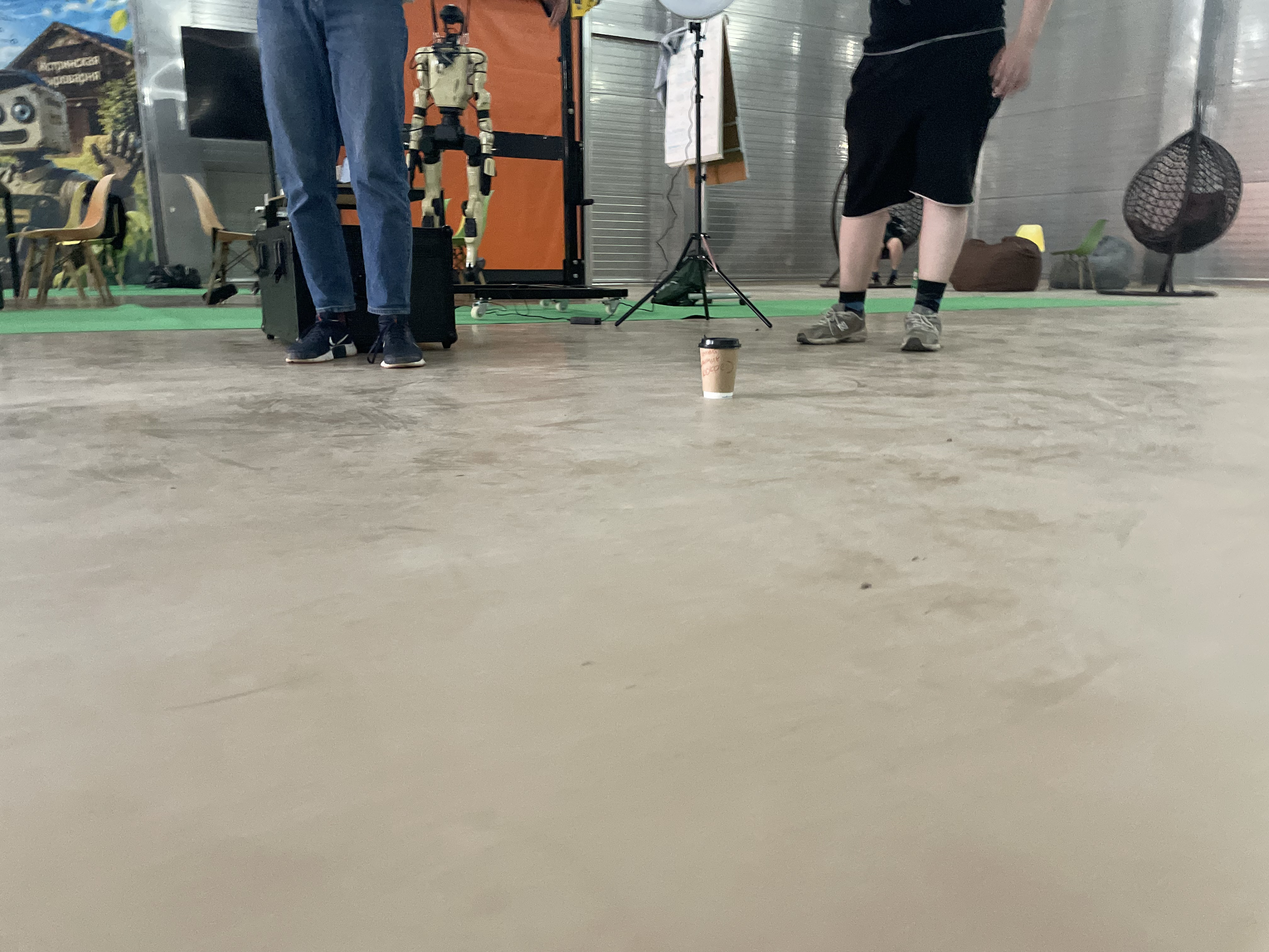cup: (698, 334, 742, 399)
